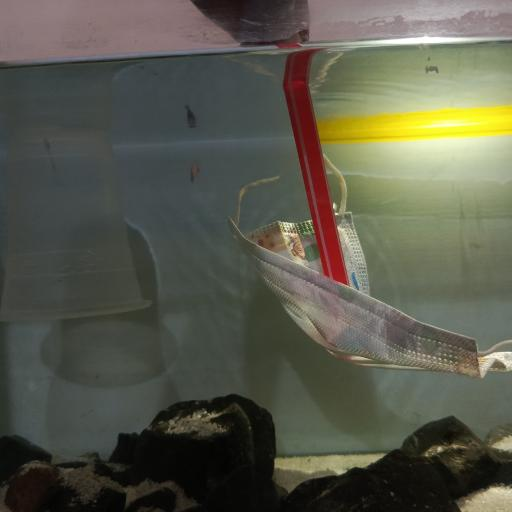mask: (229, 150, 512, 380)
plastic_cup: (1, 122, 150, 320)
plastic_straw: (280, 76, 351, 290), (316, 126, 512, 142)
